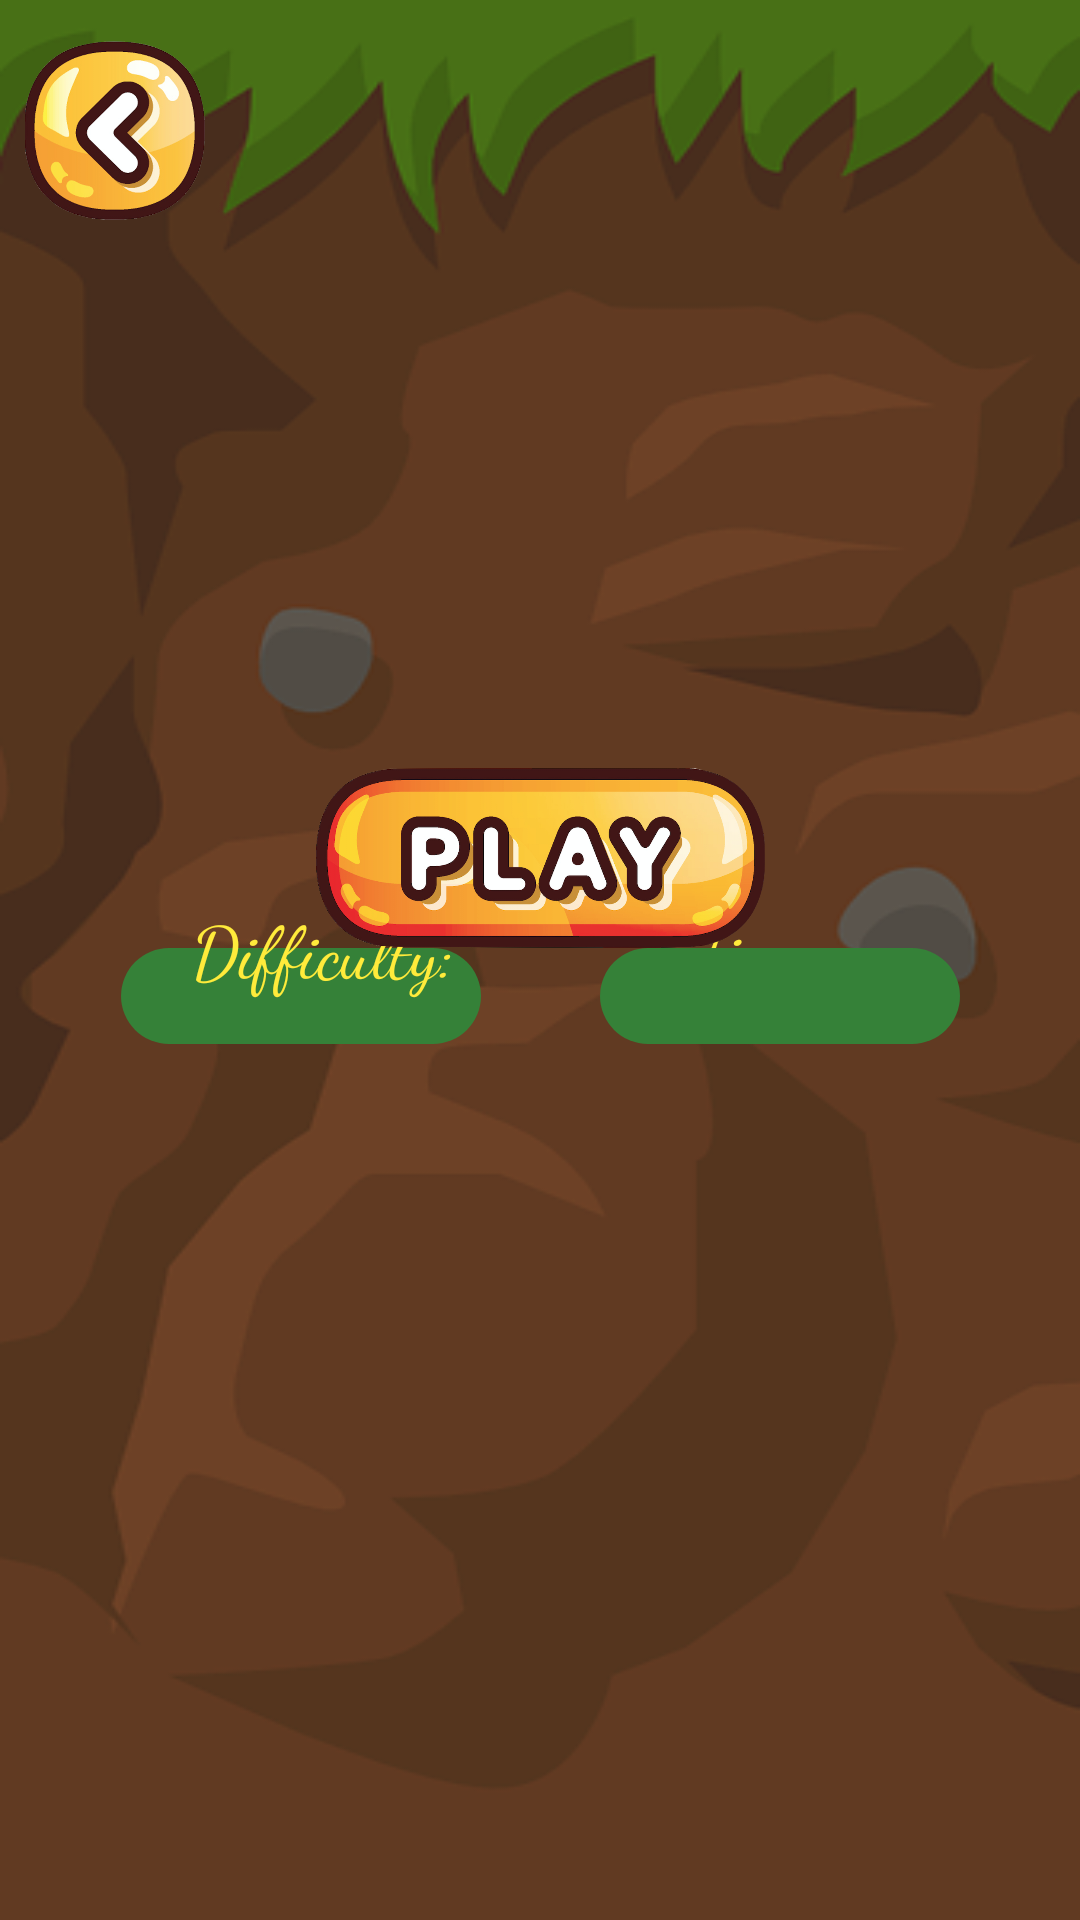

Screen size 1080*1920. Icon name, then its center in pixels as (x=x, y=y):
back: (x=115, y=130)
